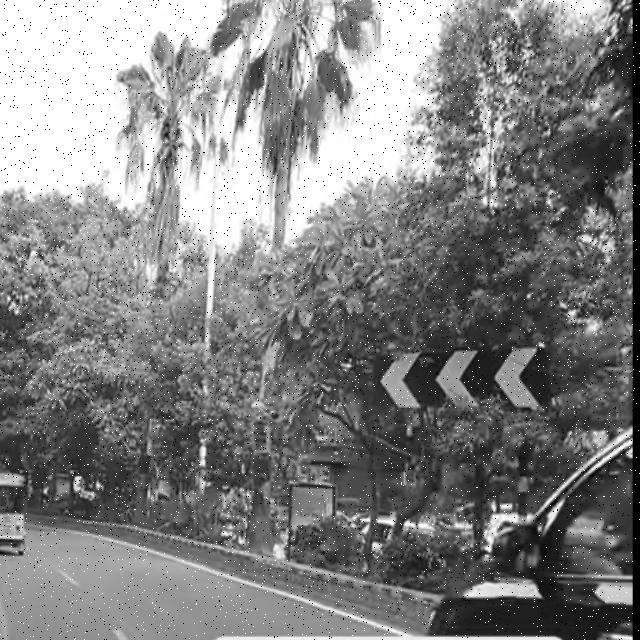triple_chevron: (361, 347, 557, 421)
